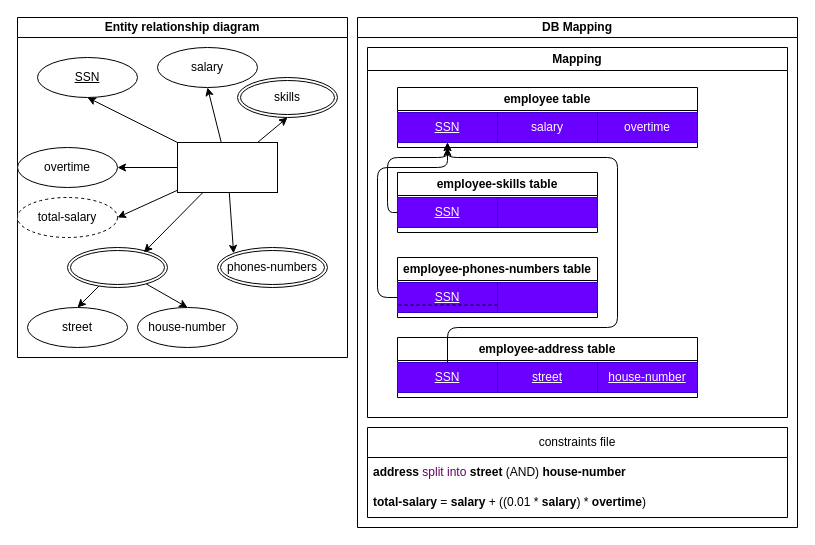
This 815x545 diagram has some shape labels left out. The centre of each missing label's shape, as x and y in pixels:
"addresses" belongs at (117,267).
"employee" belongs at (227,167).
"phone-number" belongs at (547,297).
"skill" belongs at (547,212).
